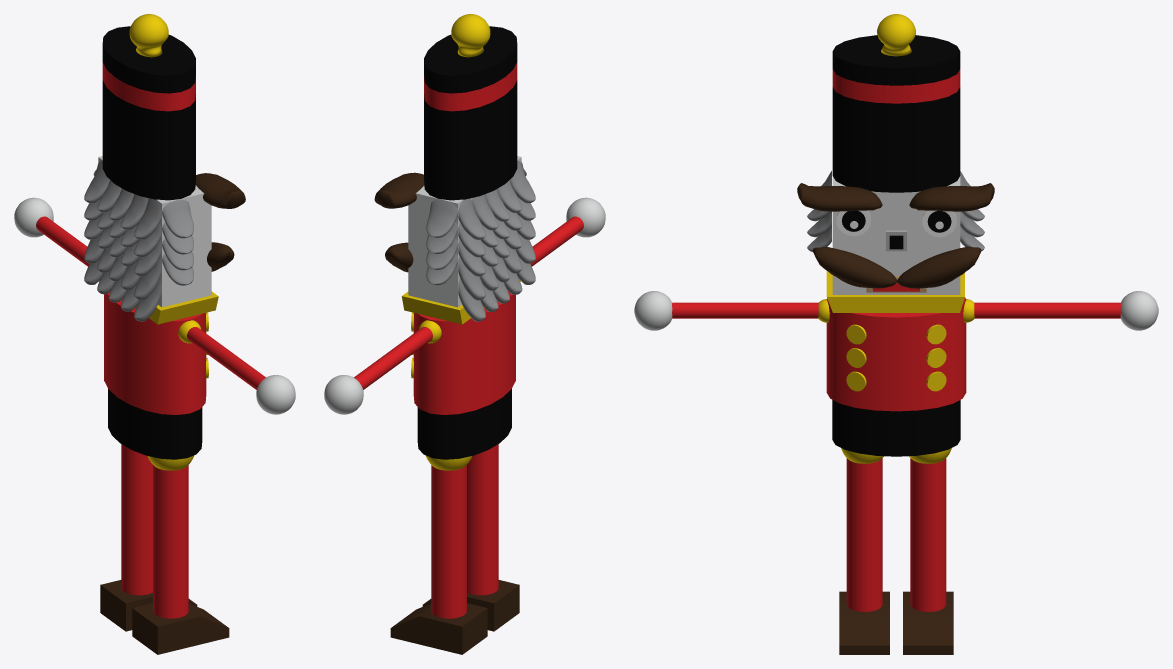
File: NutCracker.fbx
The picture shows the model from 3 angles, left to right: view 1: azimuth 30°, elevation 25°; view 2: azimuth 150°, elevation 25°; view 3: azimuth 270°, elevation 25°; orthographic projection.
Visible parts, largest first — view 1: Cilindro2, Capelli, Corpo, GambaDx, GambaSx2, CorpoCilindro1, Faccia, Braccio_Dx, Braccio_Sx, Pennacchio, SDx, Colletto (+1 smaller); view 2: Cilindro2, Capelli, Corpo, GambaSx2, GambaDx, CorpoCilindro1, Faccia, Braccio_Sx, Braccio_Dx, Pennacchio, SSx, Colletto (+1 smaller); view 3: Cilindro2, Corpo, GambaDx, GambaSx2, Faccia, CorpoCilindro1, Braccio_Sx, Braccio_Dx, Colletto, BSx, BDx, Bottoni (+6 smaller).
Part boxes in pixels (<box>): Cilindro2: <box>102,26,195,200</box>; Capelli: <box>84,161,193,321</box>; Corpo: <box>104,291,206,414</box>; GambaDx: <box>132,455,229,654</box>; GambaSx2: <box>100,444,197,631</box>; CorpoCilindro1: <box>108,389,202,459</box>; Faccia: <box>98,156,211,307</box>; Braccio_Dx: <box>178,320,295,414</box>; Braccio_Sx: <box>14,197,89,266</box>; Pennacchio: <box>129,14,168,57</box>; SDx: <box>195,173,245,208</box>; Colletto: <box>98,280,218,324</box>; Cilindro2: <box>424,26,517,200</box>; Capelli: <box>426,161,535,321</box>; Corpo: <box>413,291,515,414</box>; GambaSx2: <box>390,455,487,654</box>; GambaDx: <box>422,444,519,631</box>; CorpoCilindro1: <box>417,389,511,459</box>; Faccia: <box>408,156,521,307</box>; Braccio_Sx: <box>324,320,441,414</box>; Braccio_Dx: <box>530,197,605,266</box>; Pennacchio: <box>451,14,490,57</box>; SSx: <box>374,172,424,208</box>; Colletto: <box>401,279,521,324</box>; Cilindro2: <box>832,35,960,192</box>; Corpo: <box>826,297,966,411</box>; GambaDx: <box>839,448,889,654</box>; GambaSx2: <box>903,448,953,654</box>; Faccia: <box>832,176,960,294</box>; CorpoCilindro1: <box>832,400,960,456</box>; Braccio_Sx: <box>963,291,1158,330</box>; Braccio_Dx: <box>634,291,829,330</box>; Colletto: <box>826,271,964,312</box>; BSx: <box>897,246,981,288</box>; BDx: <box>812,247,897,288</box>; Bottoni: <box>846,324,946,391</box>.
Size of the model in its own units: 16.68 by 102 by 78.99.
